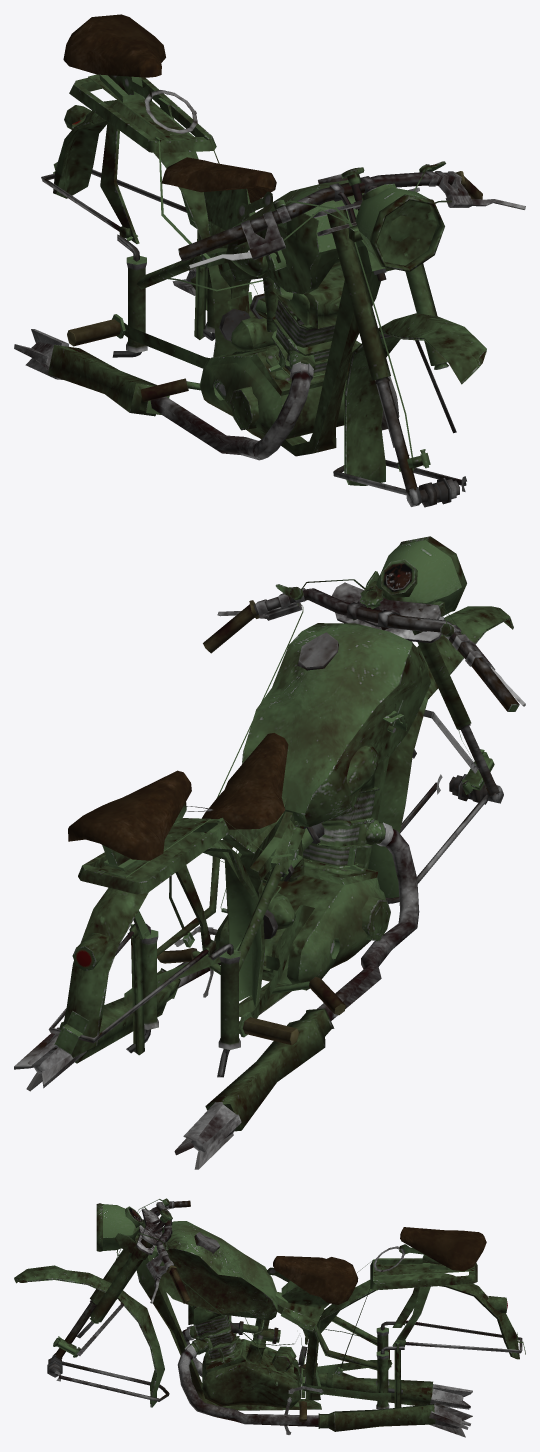
Rendered from Bg_bike_Broken_03.fbx.
3 views of the same model, one above another, from view 1: azimuth 30°, elevation 25°; view 2: azimuth 150°, elevation 25°; view 3: azimuth 270°, elevation 25° (orthographic). The views are drawn at different scales.
Visible parts, largest first — view 1: Bg_bike_Broken_03; view 2: Bg_bike_Broken_03; view 3: Bg_bike_Broken_03.
Boxes of the visible parts, bbox=[...] form: Bg_bike_Broken_03: bbox=[14, 14, 525, 507]; Bg_bike_Broken_03: bbox=[14, 536, 525, 1169]; Bg_bike_Broken_03: bbox=[14, 1198, 525, 1437].
Size of the model in its own units: 106 by 119 by 241.
